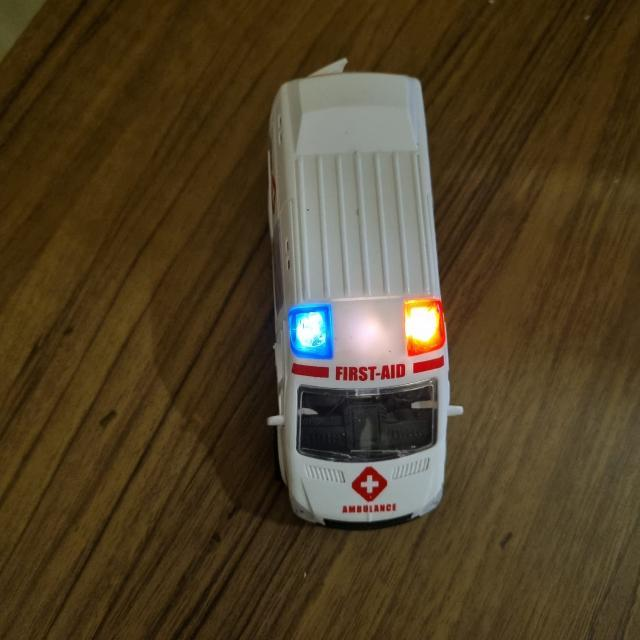emergency-vehicle: (267, 72, 463, 534)
